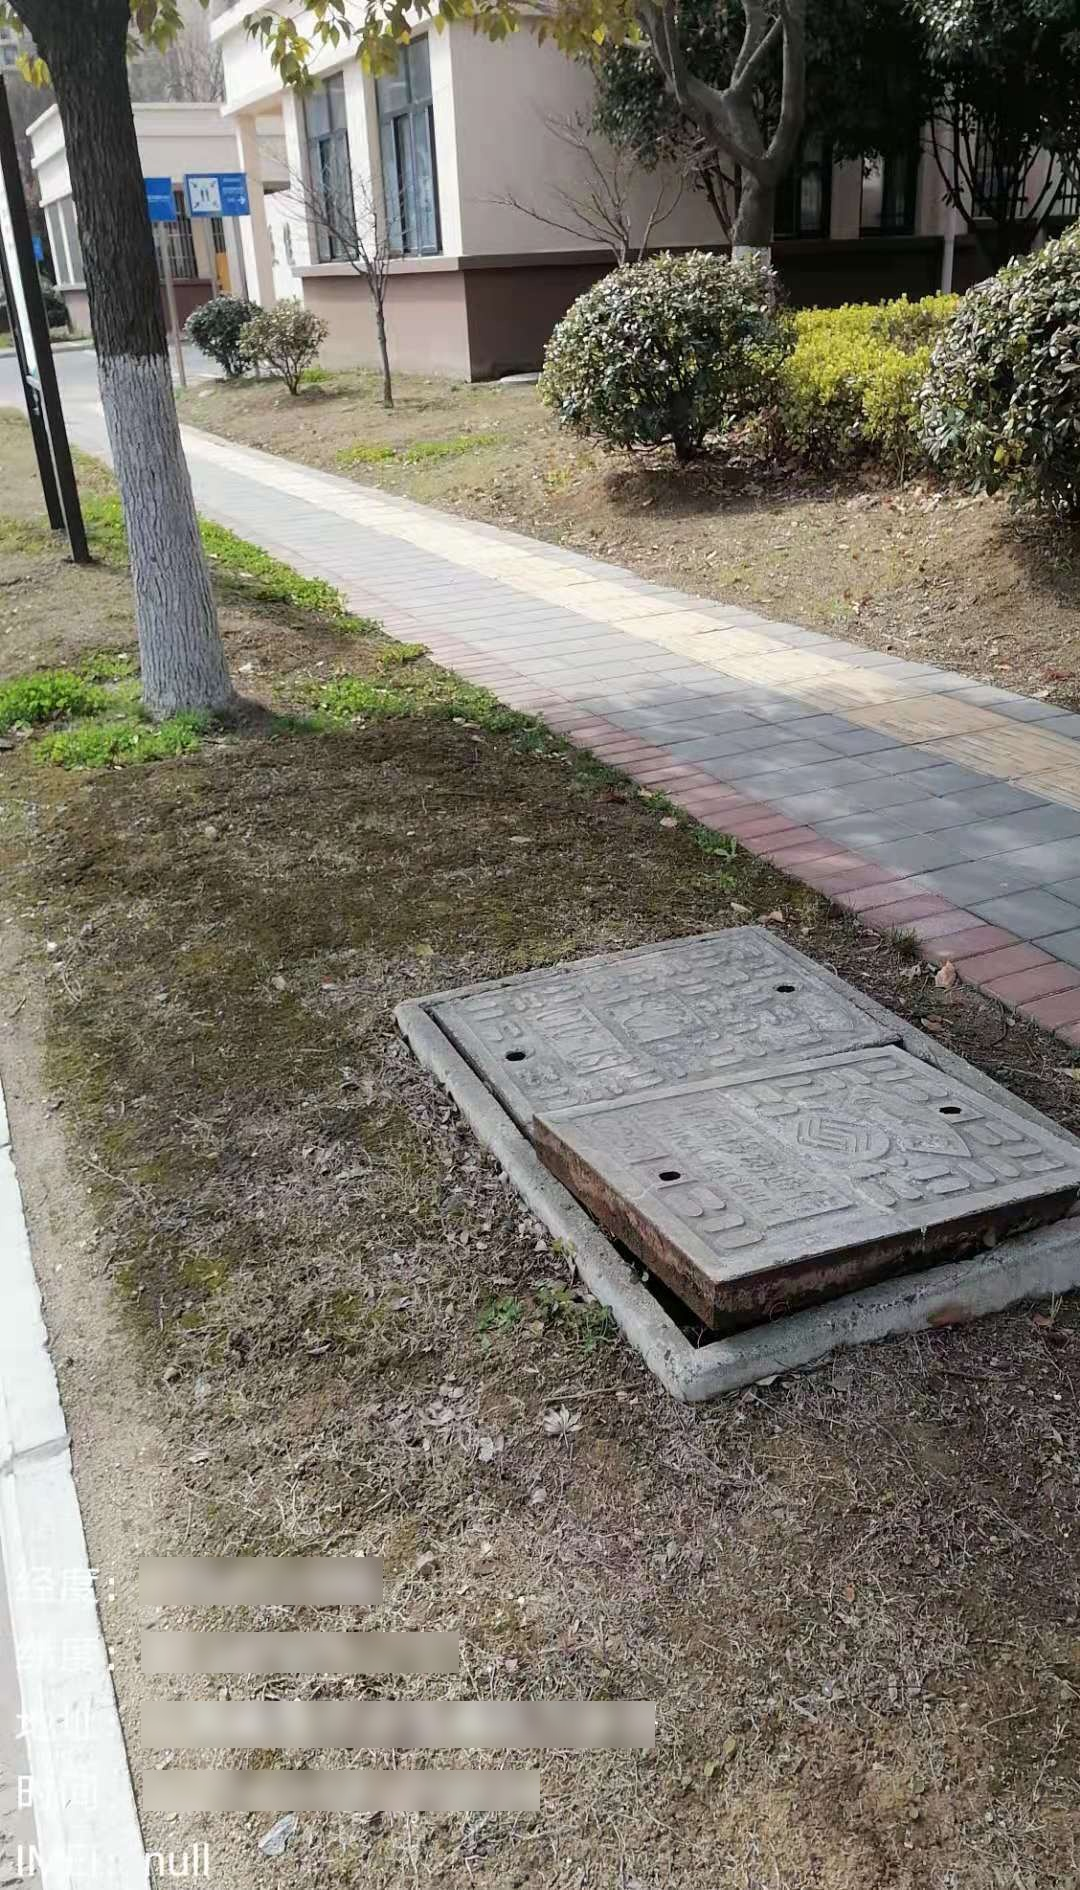uncovered: (391, 919, 1080, 1392)
